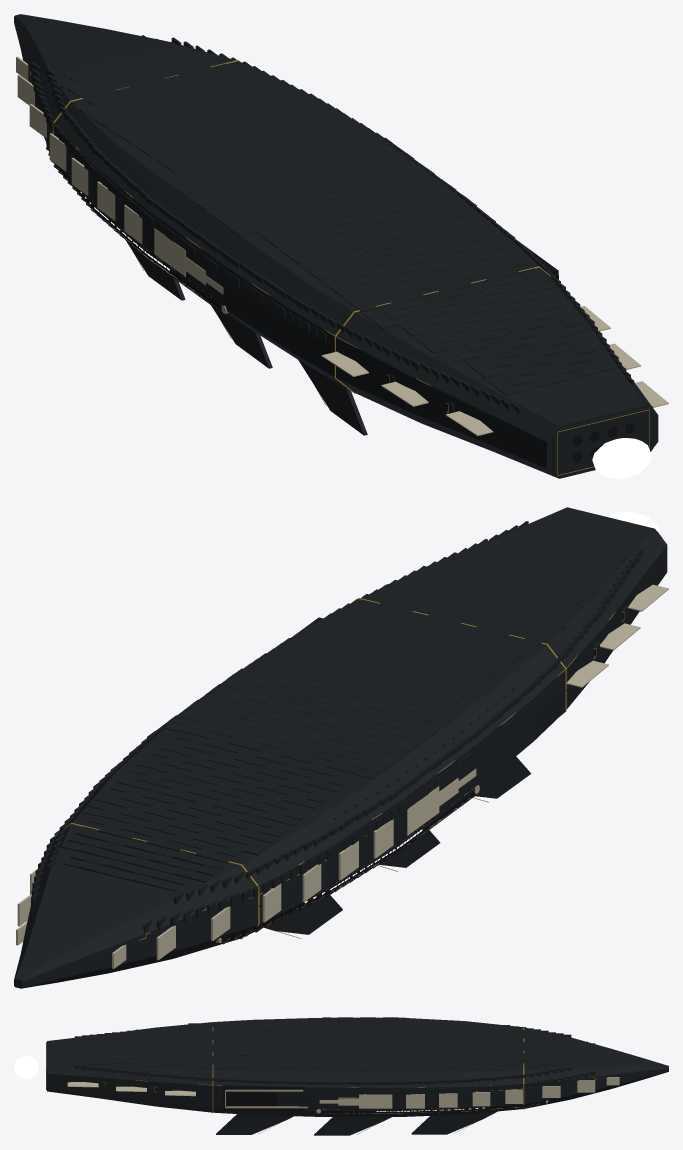
3 views of the same model, one above another, from view 1: azimuth 30°, elevation 25°; view 2: azimuth 150°, elevation 25°; view 3: azimuth 270°, elevation 25° (orthographic). The views are drawn at different scales.
Visible parts, largest first — view 1: RIMWARD_HULL, RIMWARD_ENGINE_GLOW; view 2: RIMWARD_HULL; view 3: RIMWARD_HULL, RIMWARD_ENGINE_GLOW.
Part boxes in pixels (bbox=[...]): RIMWARD_HULL: bbox=[14, 14, 668, 478]; RIMWARD_ENGINE_GLOW: bbox=[592, 438, 651, 478]; RIMWARD_HULL: bbox=[14, 507, 668, 988]; RIMWARD_HULL: bbox=[46, 1017, 668, 1135]; RIMWARD_ENGINE_GLOW: bbox=[14, 1055, 38, 1078].
Bounding box in the file's own units: 18.97 × 9.55 × 80.58.
